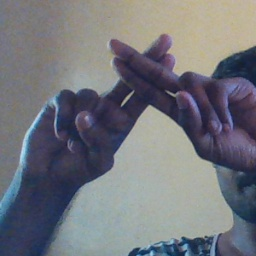F: (74, 28, 220, 142)
